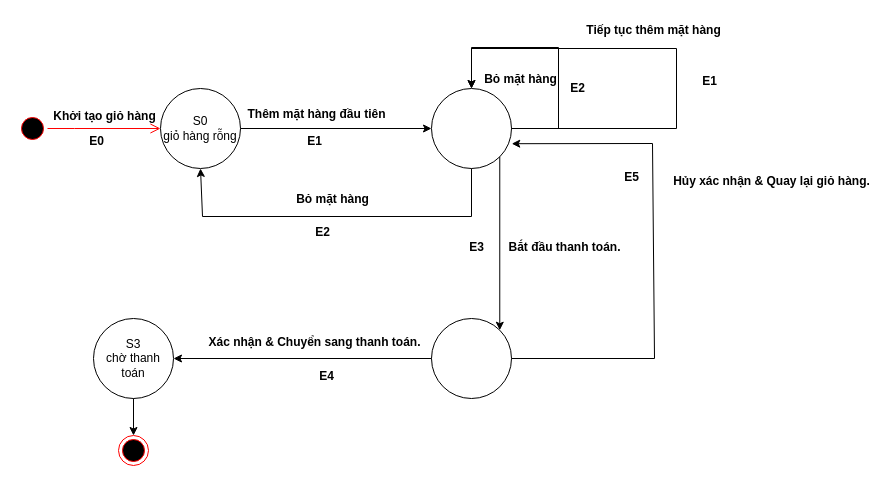
Image size: 896x483. Some labels were removed from this diagram. The centre of each missing label's shape, as x and y in pixels:
"S1 có hàng trong giỏ" goes at (471,128).
"S2 màn hình tổng hợp" goes at (471,358).
